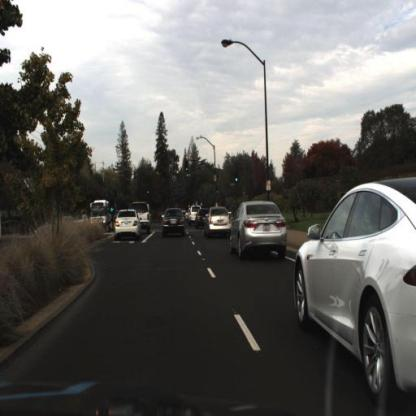car: (291, 173, 416, 394), (230, 201, 291, 258), (115, 209, 140, 243), (164, 209, 186, 238), (132, 203, 153, 232), (208, 211, 229, 238), (198, 208, 210, 233), (190, 205, 201, 227)
trafficLight-Green: (235, 175, 240, 189), (186, 162, 190, 175)
trafficLight-GreenLeft: (111, 196, 116, 220)
truck: (87, 202, 111, 233)
